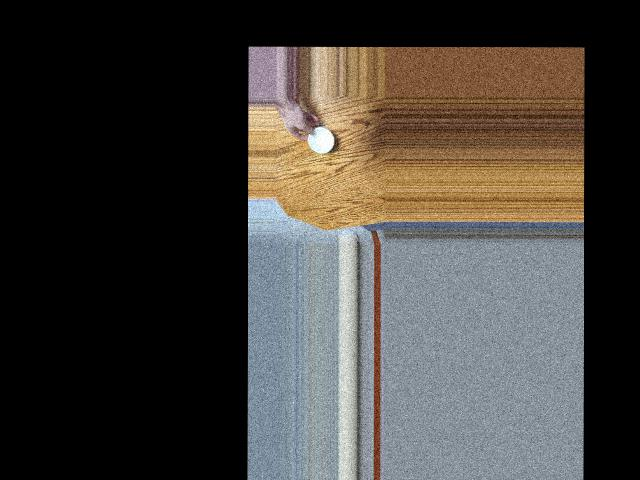cotage: (305, 127, 336, 153)
